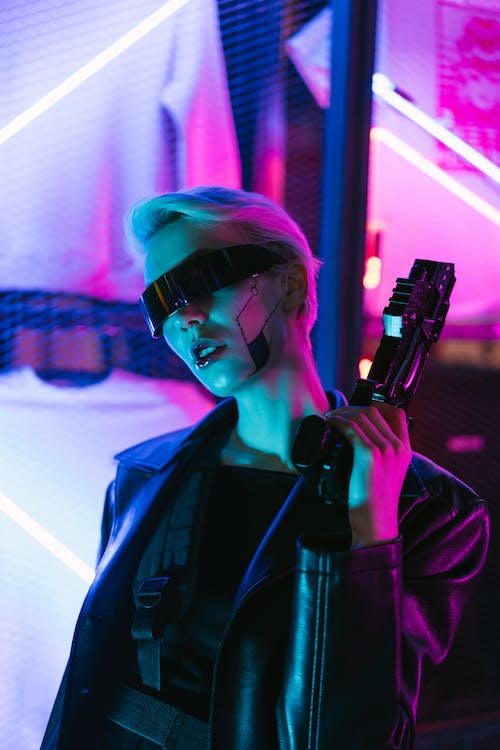gun: (288, 252, 460, 510)
